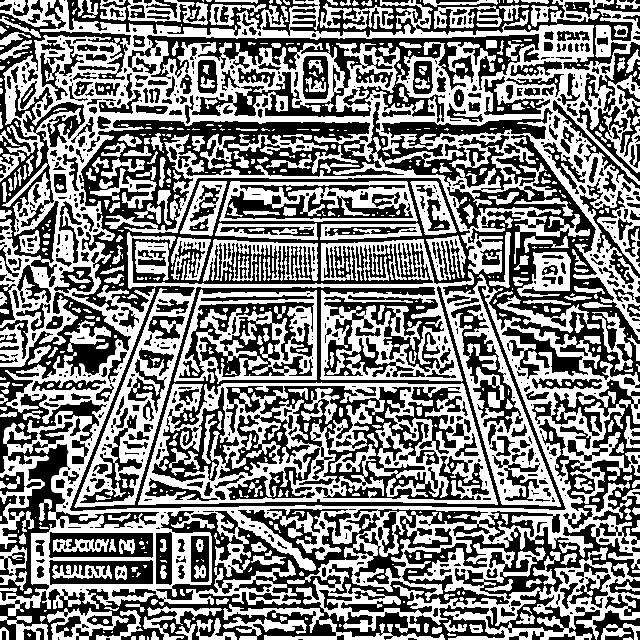left side: (71, 180, 229, 509), (409, 180, 565, 509)
player: (188, 356, 229, 498), (366, 101, 390, 169)
